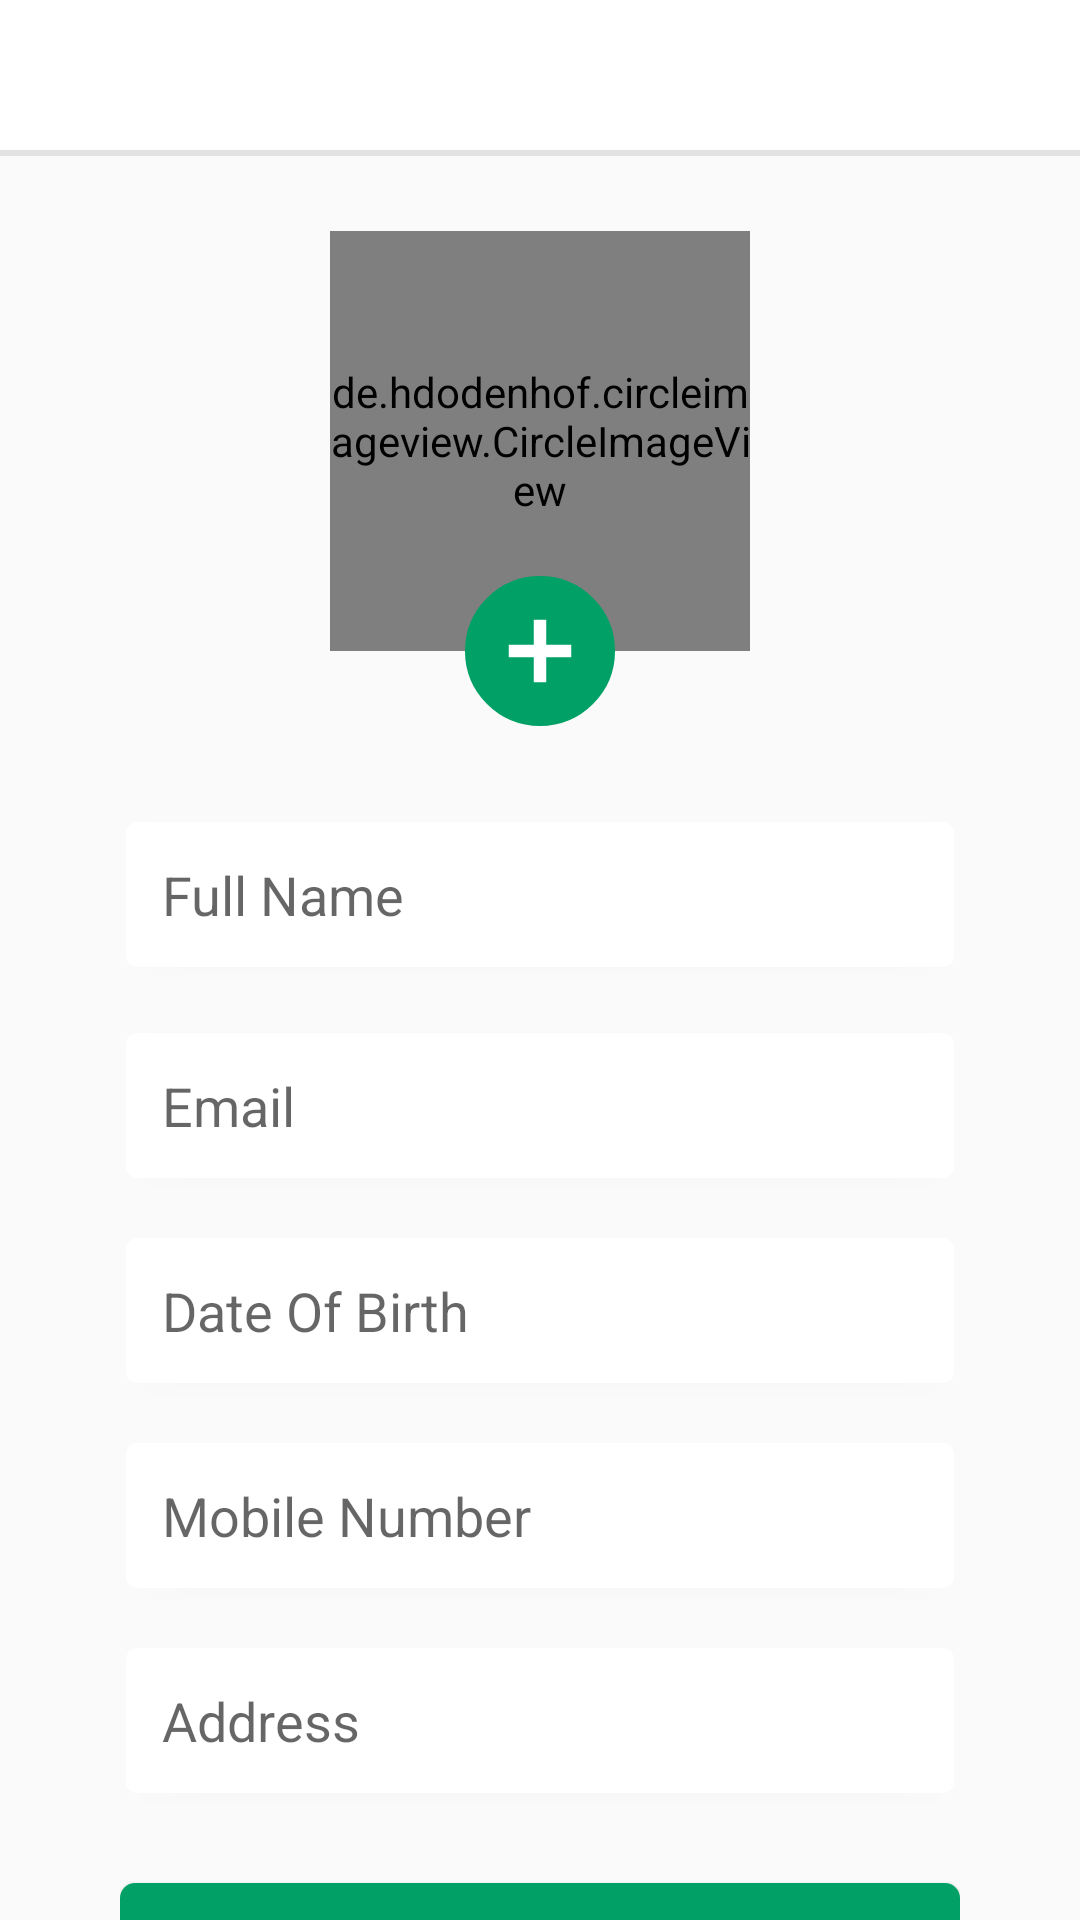

Icon click points for this 1080×1920 phone screenshot, format [x,y]:
add circle: [540,651]
